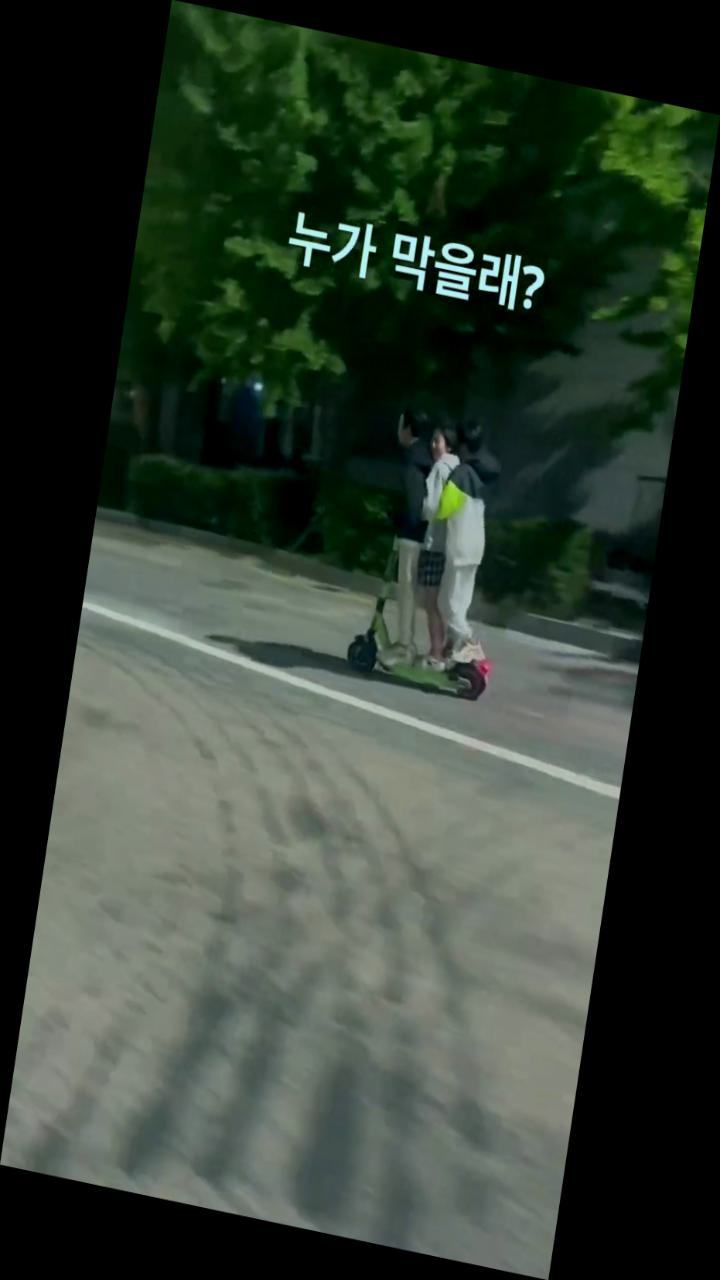multiple: (331, 389, 537, 712)
